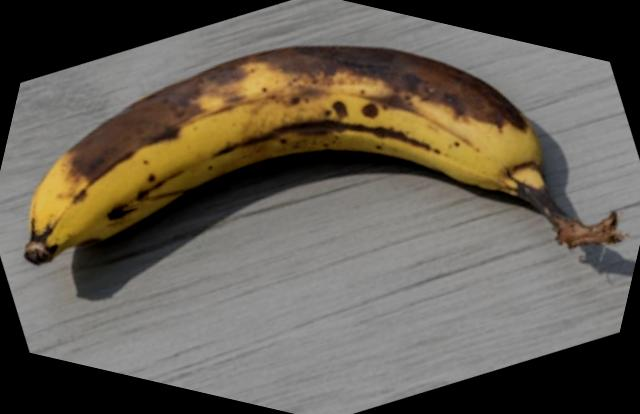Banana Overripe: (2, 0, 640, 412)
